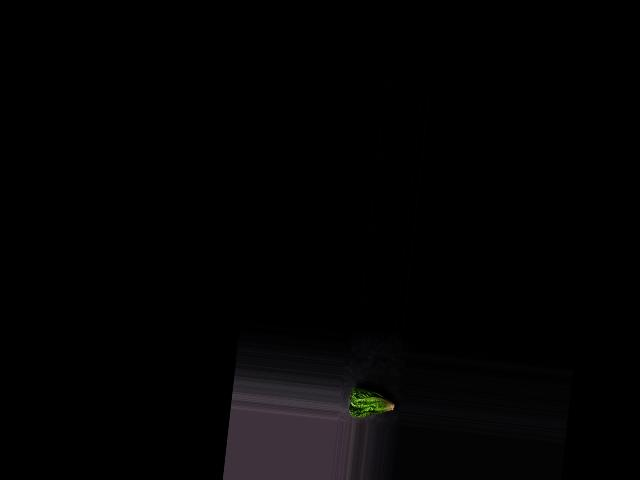lettuce: (347, 385, 399, 422)
